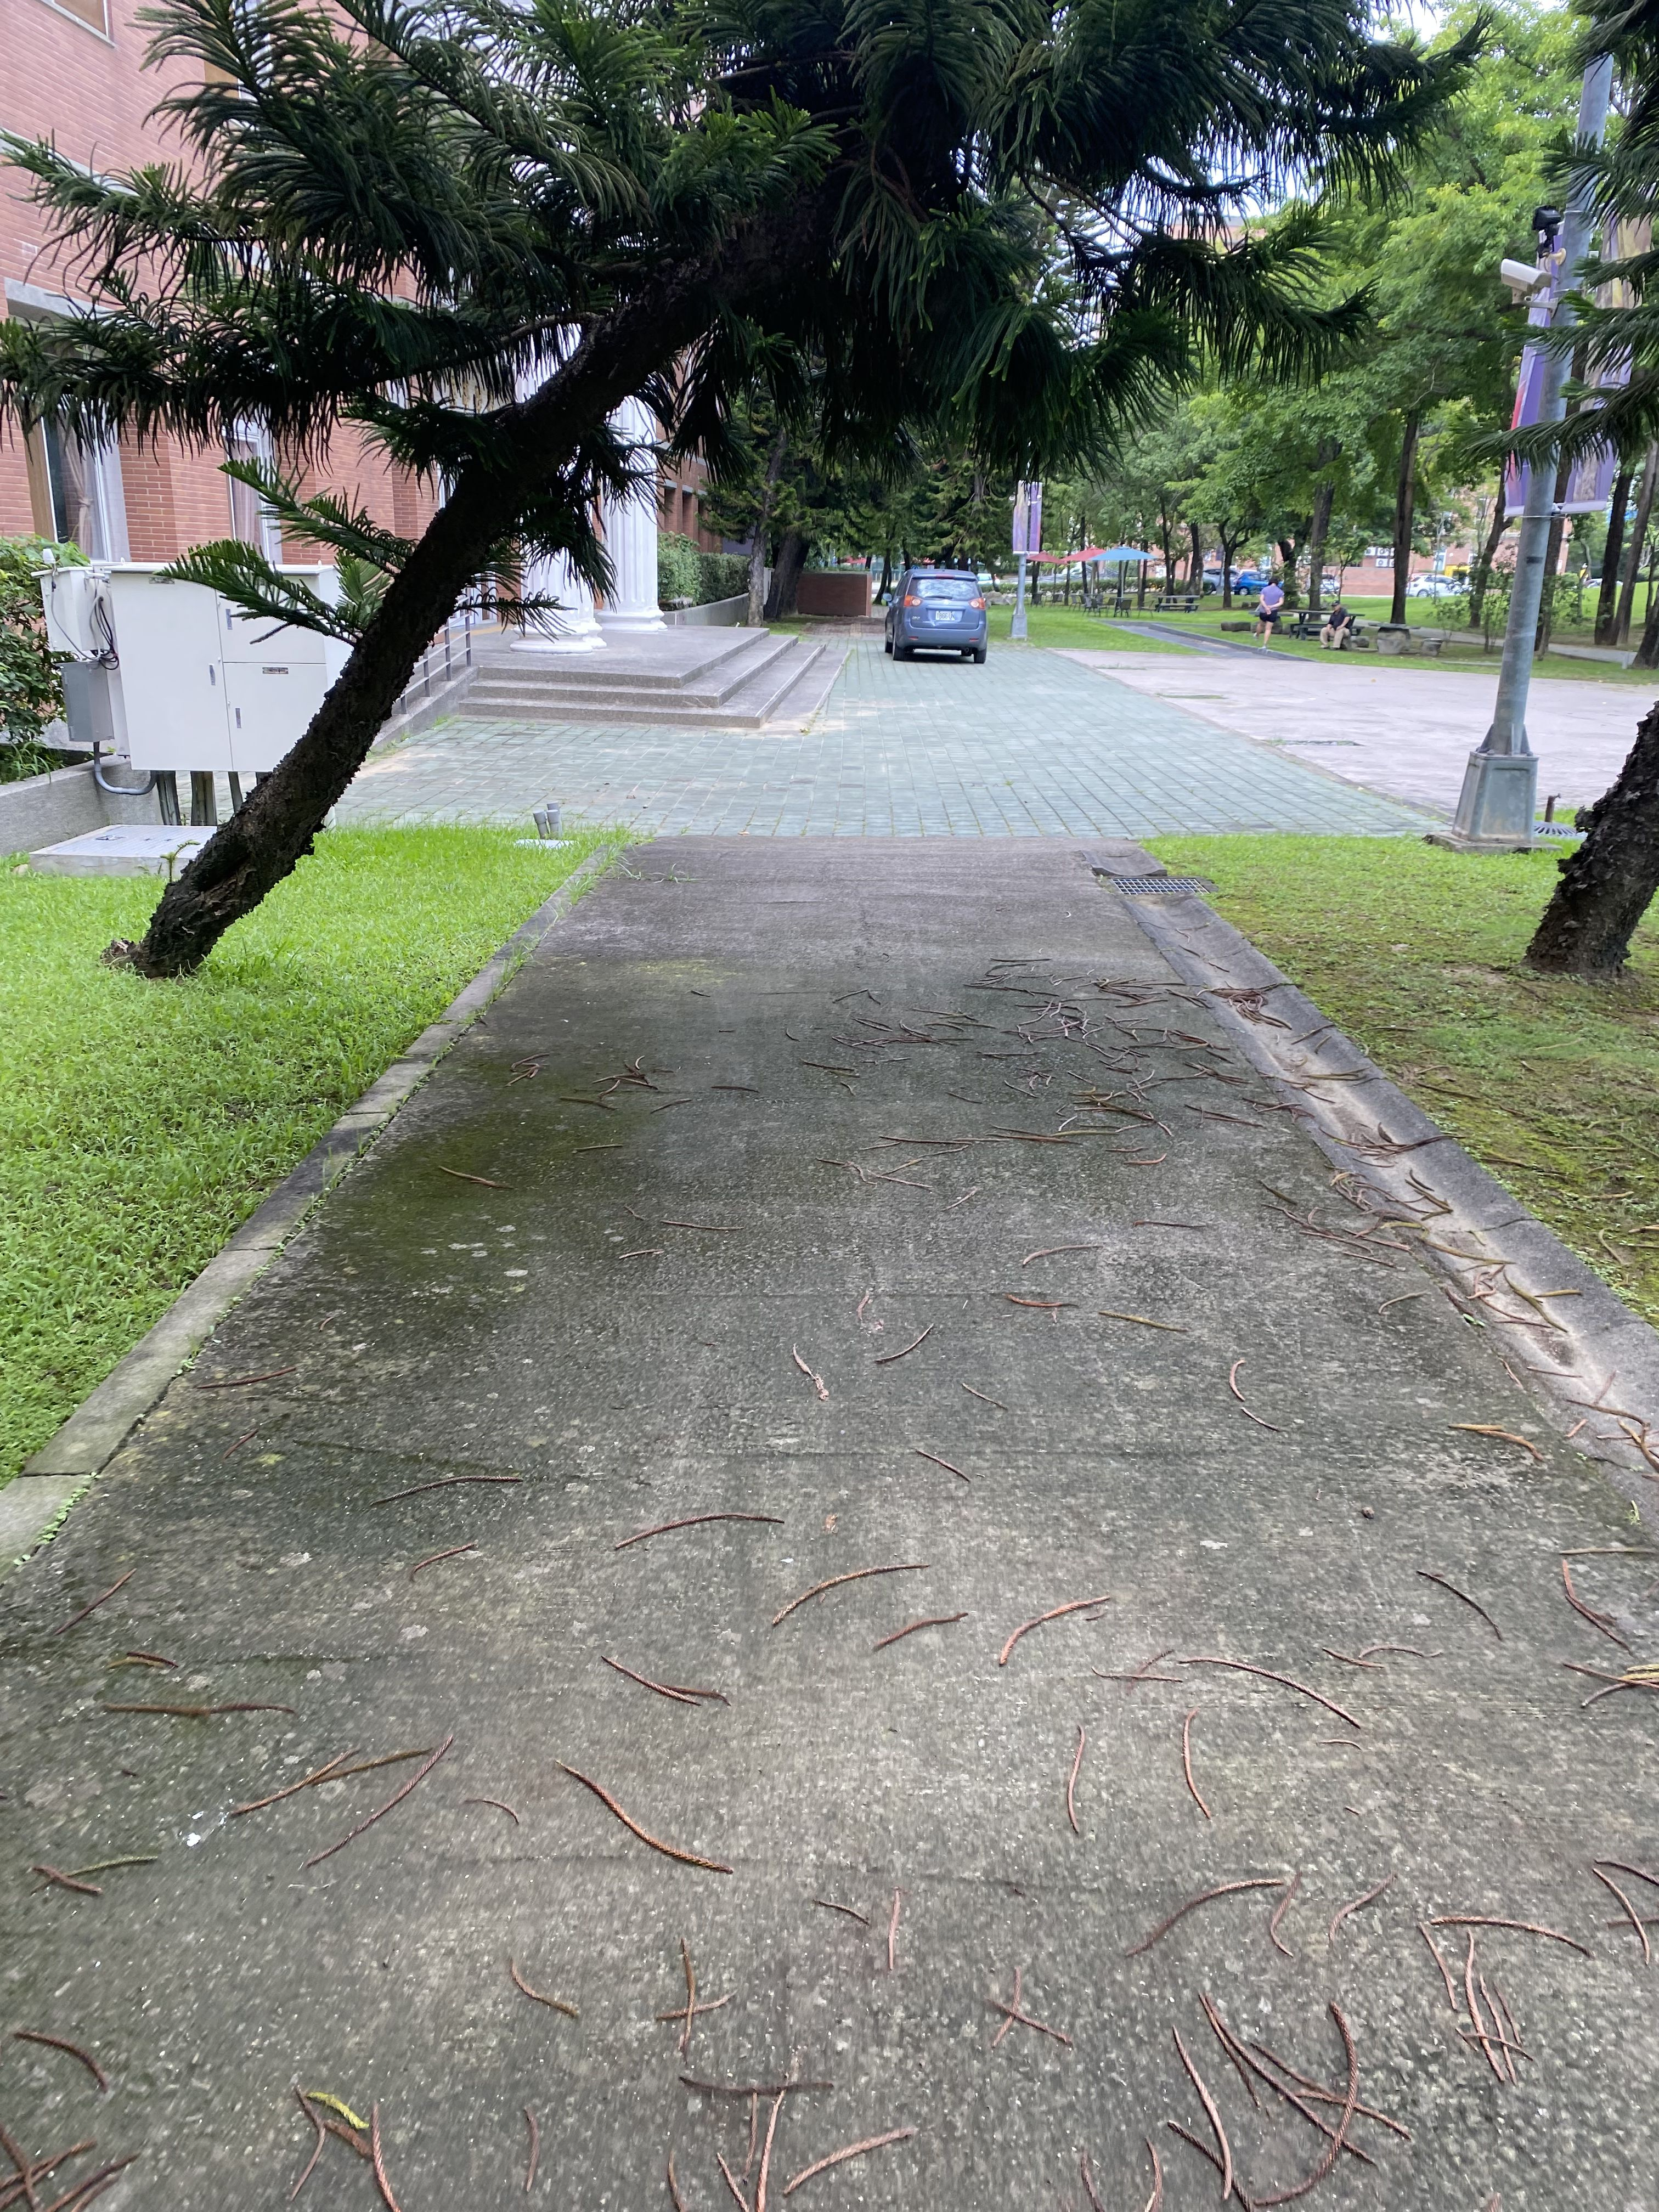0: (385, 592, 1438, 888)
sidewalk: (19, 810, 1659, 2212)
